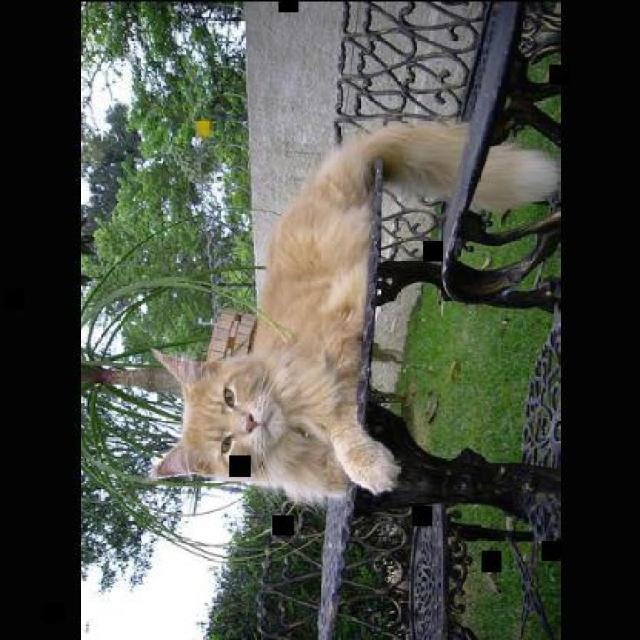unauthorized: (146, 119, 559, 506)
